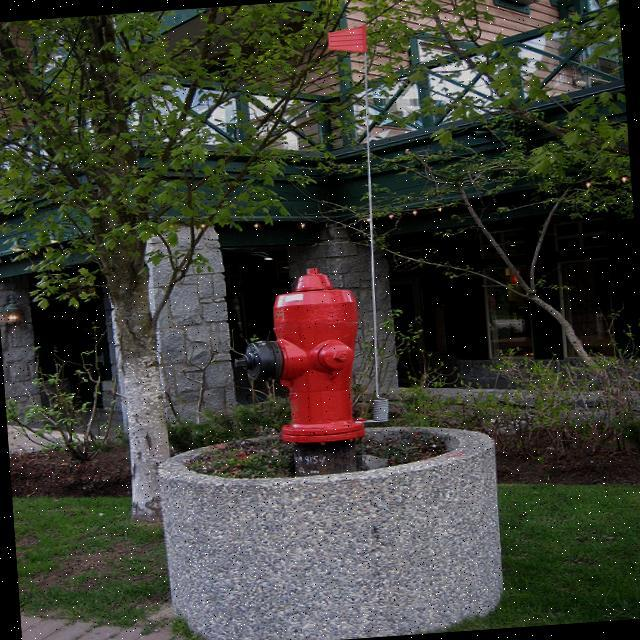fire_hydrant: (227, 263, 369, 452)
